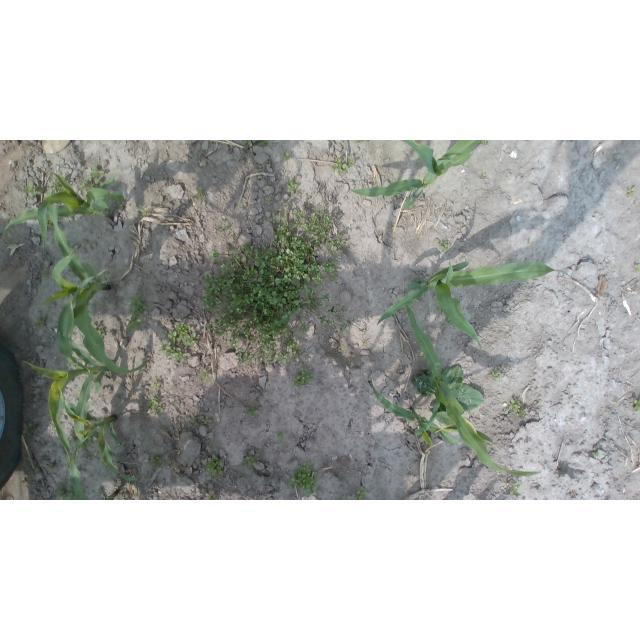Maize: (406, 304, 540, 475), (43, 206, 148, 374), (21, 269, 107, 468), (377, 260, 576, 343), (3, 173, 126, 248), (350, 141, 477, 212), (54, 386, 136, 483), (365, 377, 463, 448), (67, 445, 126, 500)
Weeds: (200, 216, 325, 341), (441, 364, 486, 414), (292, 206, 333, 249), (160, 320, 201, 362), (258, 335, 303, 367), (289, 462, 320, 499), (126, 294, 148, 331), (79, 168, 105, 197), (315, 315, 349, 335), (229, 340, 254, 364), (504, 397, 526, 419), (292, 365, 313, 388), (326, 232, 346, 255), (413, 374, 432, 397), (330, 156, 354, 174), (205, 455, 224, 477), (24, 182, 45, 200), (48, 178, 67, 196), (55, 484, 74, 500), (147, 397, 164, 414), (151, 452, 168, 468), (244, 452, 260, 468), (23, 423, 38, 437), (488, 368, 504, 381), (437, 239, 451, 253), (510, 481, 523, 496), (245, 140, 269, 148), (286, 180, 298, 196), (277, 200, 291, 213), (32, 316, 46, 329), (244, 404, 257, 416), (199, 369, 211, 382), (333, 305, 347, 316), (276, 431, 289, 442), (140, 205, 151, 218), (95, 325, 104, 340), (195, 188, 205, 201), (356, 487, 366, 500), (40, 267, 49, 281), (625, 188, 638, 197), (632, 398, 640, 412), (151, 380, 161, 391), (59, 173, 69, 183), (320, 293, 332, 301), (192, 416, 200, 428), (200, 417, 212, 425), (324, 306, 332, 316), (204, 494, 216, 500), (282, 152, 290, 161), (267, 196, 274, 205), (592, 451, 600, 458), (634, 265, 640, 274), (87, 436, 93, 444), (481, 172, 488, 178), (48, 464, 53, 472), (480, 140, 488, 145), (342, 496, 347, 501), (356, 141, 363, 144), (307, 195, 312, 199)
